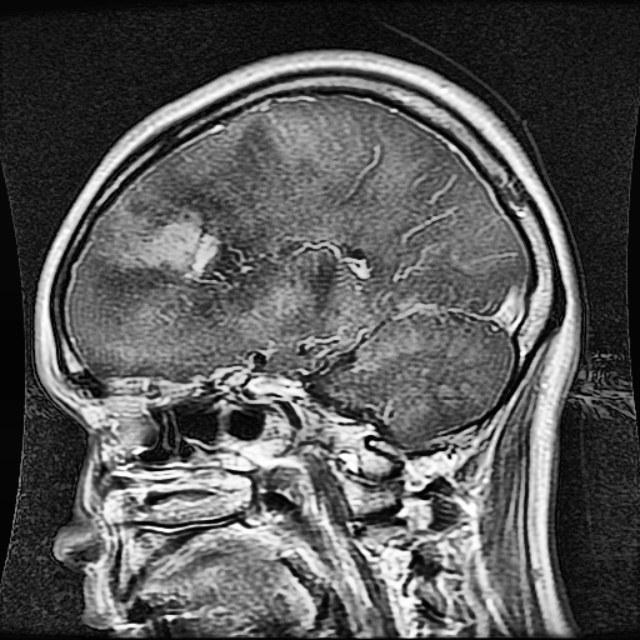Meningioma: (118, 218, 222, 274)
